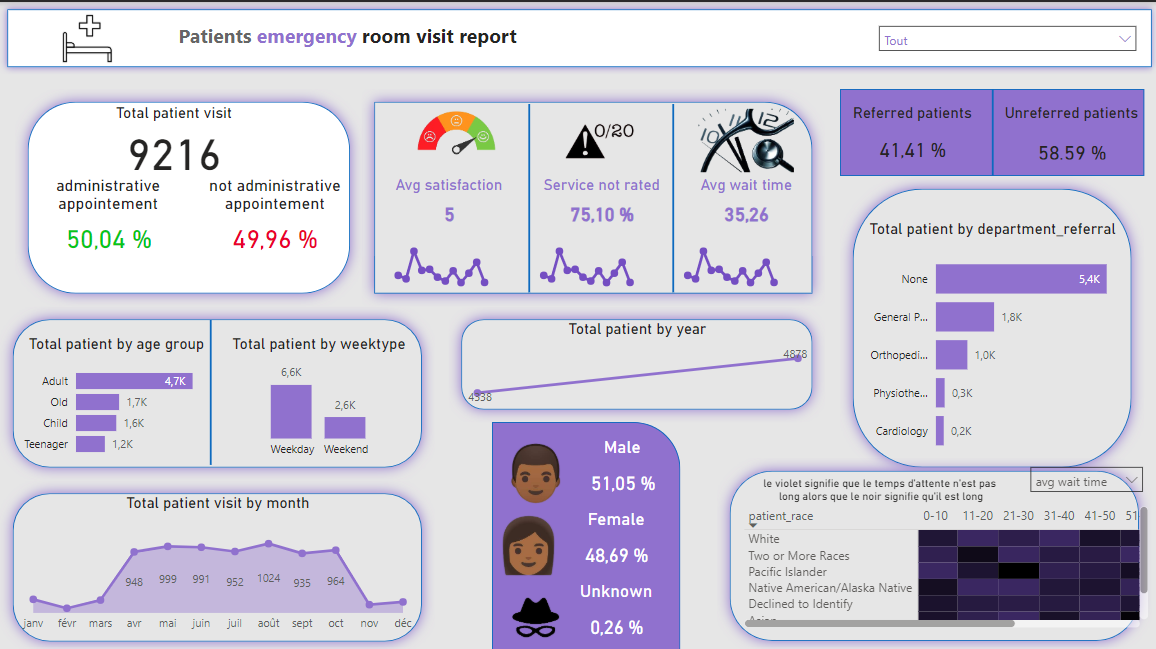

The dashboard page shown, as its layout file describes it:
{"tool":"powerbi","page":{"name":"Page 1","canvas":[1280,720],"ordinal":0},"visuals":[{"type":"shape","box":[16,96,384,240],"z":0},{"type":"shape","box":[0,0,1280,80],"z":1000},{"type":"shape","box":[400,96,512,240],"z":2000},{"type":"shape","box":[928,96,336,96],"z":3000},{"type":"shape","box":[928,192,336,336],"z":4000},{"type":"shape","box":[0,336,480,192],"z":5000},{"type":"shape","box":[496,336,416,128],"z":6000},{"type":"shape","box":[0,528,480,192],"z":7000},{"type":"shape","box":[792,504,480,216],"z":8000},{"type":"shape","box":[544,464,208,256],"z":9000},{"type":"card","title":"Total patient visit","fields":{"Values":["-mesure.total patient visit"]},"box":[96,112,192,80],"z":10000},{"type":"card","title":"not administrative appointement","fields":{"Values":["-mesure.% not administrative app"]},"box":[224,192,160,96],"z":11000},{"type":"card","title":"administrative appointement","fields":{"Values":["-mesure.% administrative app"]},"box":[32,192,176,96],"z":12000},{"type":"card","title":"Male ","fields":{"Values":["-mesure.% homme"]},"box":[592,480,192,80],"z":13000},{"type":"card","title":"Unknown","fields":{"Values":["-mesure.%femme"]},"box":[576,640,208,80],"z":14000},{"type":"card","title":"Female","fields":{"Values":["-mesure.% femme"]},"box":[576,560,208,80],"z":15000},{"type":"lineChart","title":"Total patient by year","fields":{"Y":["-mesure.total patient visit"],"Category":["Hospital ER.Année"]},"box":[512,352,384,96],"z":16000},{"type":"image","box":[544,640,96,80],"z":17000},{"type":"image","box":[544,560,80,80],"z":18000},{"type":"image","box":[544,480,96,80],"z":19000},{"type":"clusteredBarChart","title":"Total patient by department_referral","fields":{"Y":["-mesure.total patient visit"],"Category":["Hospital ER.department_referral"]},"box":[944,240,304,272],"z":20000},{"type":"card","title":"Avg wait time ","fields":{"Values":["-mesure.avg wait time"]},"box":[752,192,144,64],"z":21000},{"type":"card","title":"Avg satisfaction","fields":{"Values":["-mesure.avg satisfaction"]},"box":[416,192,160,64],"z":22000},{"type":"image","box":[0,0,192,80],"z":23000},{"type":"textbox","box":[192,16,528,48],"z":24000},{"type":"stackedAreaChart","title":"Total patient visit by month","fields":{"Y":["-mesure.total patient visit"],"Category":["Calendar.month"]},"box":[16,544,448,160],"z":25000},{"type":"shape","box":[576,112,16,208],"z":26000},{"type":"shape","box":[208,352,48,160],"z":27000},{"type":"image","box":[416,96,176,96],"z":28000},{"type":"shape","box":[736,112,16,208],"z":29000},{"type":"clusteredBarChart","title":"Total patient by age group","fields":{"Y":["-mesure.total patient visit"],"Category":["Hospital ER.tranche d'age"]},"box":[16,368,224,144],"z":30000},{"type":"columnChart","title":"Total patient by weektype","fields":{"Y":["-mesure.total patient visit"],"Category":["Calendar.Weektype"]},"box":[240,368,224,144],"z":31000},{"type":"card","title":"Service not rated","fields":{"Values":["-mesure.% not service rated"]},"box":[576,192,176,64],"z":32000},{"type":"image","box":[592,112,144,80],"z":33000},{"type":"image","box":[752,112,144,80],"z":34000},{"type":"card","title":"Referred patients ","fields":{"Values":["-mesure.% referred"]},"box":[928,112,160,80],"z":35000},{"type":"card","title":"Unreferred patients ","fields":{"Values":["-mesure.% unreferred"]},"box":[1104,112,160,64],"z":36000},{"type":"shape","box":[1088,96,16,96],"z":37000},{"type":"slicer","fields":{"Values":["Hospital ER.Année"]},"box":[960,16,304,48],"z":38000},{"type":"pivotTable","fields":{"Values":["-mesure.avg wait time"],"Rows":["Hospital ER.patient_race"],"Columns":["Hospital ER.intervalle age"]},"box":[816,552,456,144],"z":39000},{"type":"lineChart","fields":{"Y":["-mesure.avg satisfaction"],"Category":["Hospital ER.Mois"]},"box":[416,256,160,64],"z":40000},{"type":"lineChart","fields":{"Y":["-mesure.avg satisfaction"],"Category":["Hospital ER.Mois"]},"box":[576,256,160,64],"z":41000},{"type":"lineChart","fields":{"Y":["-mesure.avg satisfaction"],"Category":["Hospital ER.Mois"]},"box":[736,256,160,64],"z":42000},{"type":"slicer","fields":{"Values":["avg satisfaction /wait time.avg satisfaction /wait time"]},"box":[1128,504,144,72],"z":43000},{"type":"card","fields":{"Values":["-mesure.hipmap caption"]},"box":[816,504,312,72],"z":44000}]}

Visuals, with their boxes in screenshot pixels (x1, y1, x2, y2), scaled from the page's 1280x720 canvas onto the 1156x649 screenshot:
shape: x1=14, y1=87, x2=361, y2=303
shape: x1=0, y1=0, x2=1155, y2=72
shape: x1=361, y1=87, x2=824, y2=303
shape: x1=838, y1=87, x2=1142, y2=173
shape: x1=838, y1=173, x2=1142, y2=476
shape: x1=0, y1=303, x2=434, y2=476
shape: x1=448, y1=303, x2=824, y2=418
shape: x1=0, y1=476, x2=434, y2=648
shape: x1=715, y1=454, x2=1149, y2=648
shape: x1=491, y1=418, x2=679, y2=648
"Total patient visit" card: x1=87, y1=101, x2=260, y2=173
"not administrative appointement" card: x1=202, y1=173, x2=347, y2=260
"administrative appointement" card: x1=29, y1=173, x2=188, y2=260
"Male " card: x1=535, y1=433, x2=708, y2=505
"Unknown" card: x1=520, y1=577, x2=708, y2=648
"Female" card: x1=520, y1=505, x2=708, y2=577
"Total patient by year" lineChart: x1=462, y1=317, x2=809, y2=404
image: x1=491, y1=577, x2=578, y2=648
image: x1=491, y1=505, x2=564, y2=577
image: x1=491, y1=433, x2=578, y2=505
"Total patient by department_referral" clusteredBarChart: x1=853, y1=216, x2=1127, y2=462
"Avg wait time " card: x1=679, y1=173, x2=809, y2=231
"Avg satisfaction" card: x1=376, y1=173, x2=520, y2=231
image: x1=0, y1=0, x2=173, y2=72
textbox: x1=173, y1=14, x2=650, y2=58
"Total patient visit by month" stackedAreaChart: x1=14, y1=490, x2=419, y2=635
shape: x1=520, y1=101, x2=535, y2=288
shape: x1=188, y1=317, x2=231, y2=462
image: x1=376, y1=87, x2=535, y2=173
shape: x1=665, y1=101, x2=679, y2=288
"Total patient by age group" clusteredBarChart: x1=14, y1=332, x2=217, y2=462
"Total patient by weektype" columnChart: x1=217, y1=332, x2=419, y2=462
"Service not rated" card: x1=520, y1=173, x2=679, y2=231
image: x1=535, y1=101, x2=665, y2=173
image: x1=679, y1=101, x2=809, y2=173
"Referred patients " card: x1=838, y1=101, x2=983, y2=173
"Unreferred patients " card: x1=997, y1=101, x2=1142, y2=159
shape: x1=983, y1=87, x2=997, y2=173
slicer - Hospital ER.Année: x1=867, y1=14, x2=1142, y2=58
pivotTable - -mesure.avg wait time x Hospital ER.patient_race: x1=737, y1=498, x2=1149, y2=627
lineChart - -mesure.avg satisfaction x Hospital ER.Mois: x1=376, y1=231, x2=520, y2=288
lineChart - -mesure.avg satisfaction x Hospital ER.Mois: x1=520, y1=231, x2=665, y2=288
lineChart - -mesure.avg satisfaction x Hospital ER.Mois: x1=665, y1=231, x2=809, y2=288
slicer - avg satisfaction /wait time.avg satisfaction /wait time: x1=1019, y1=454, x2=1149, y2=519
card - -mesure.hipmap caption: x1=737, y1=454, x2=1019, y2=519
